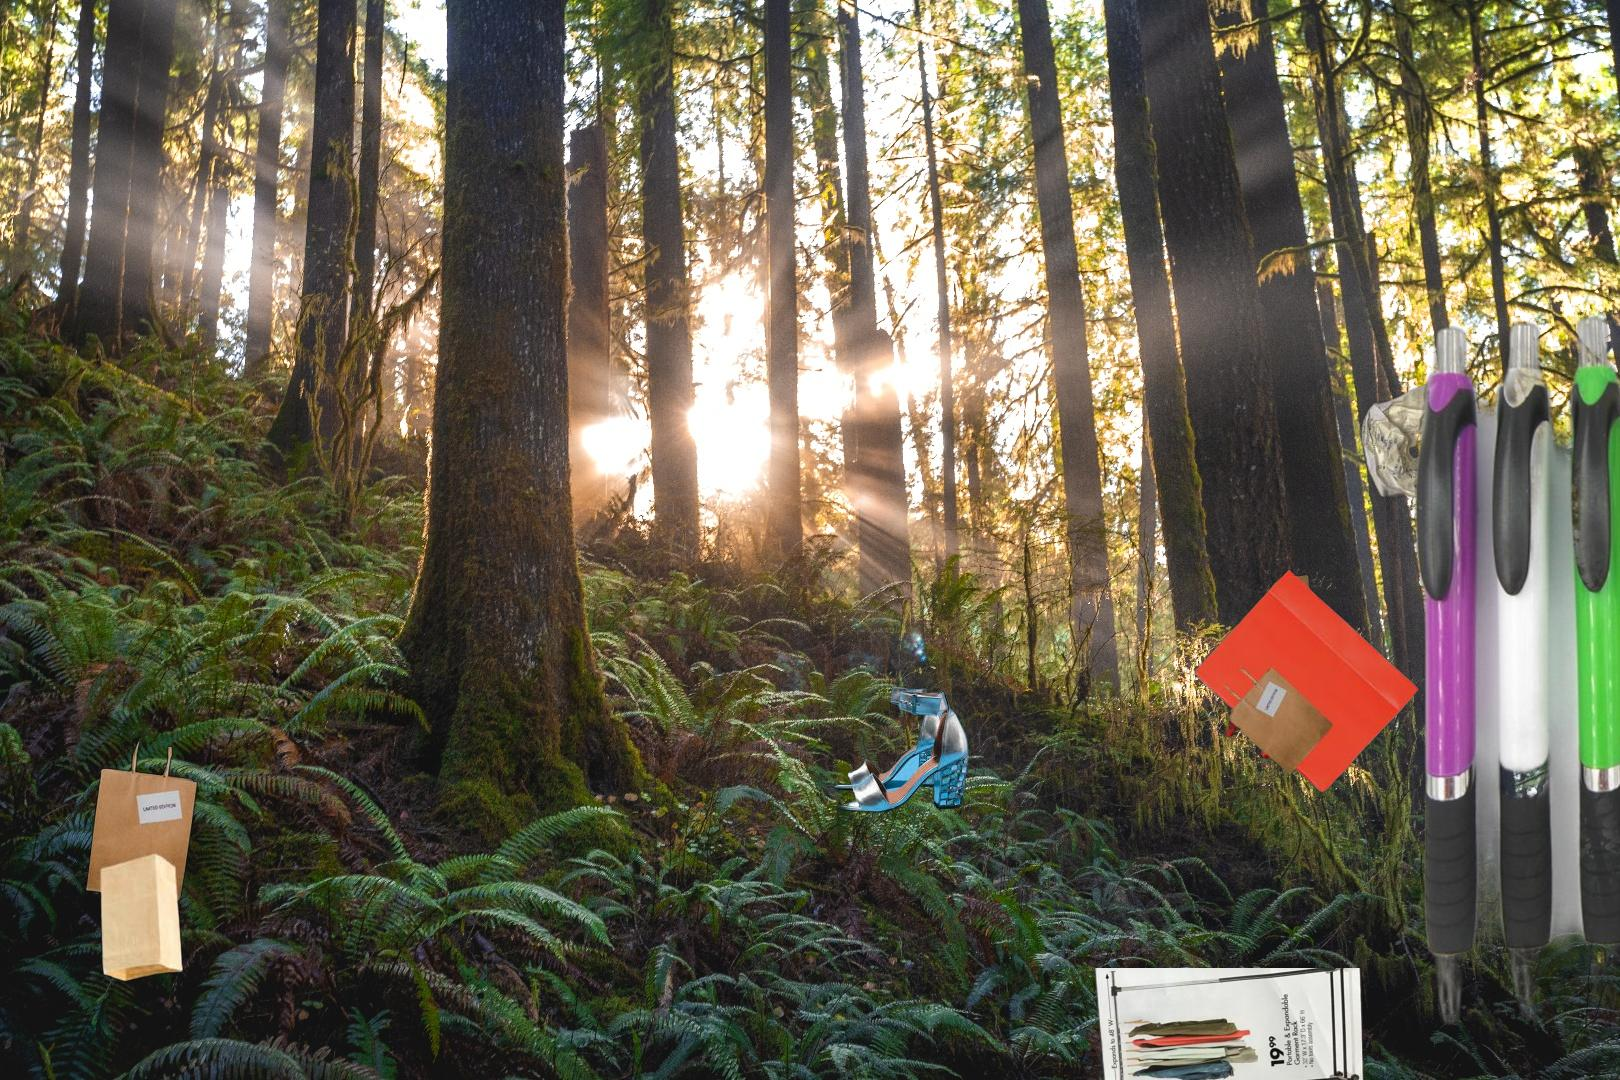paper: (871, 968, 1384, 1080), (123, 1012, 635, 1080), (1357, 375, 1458, 501)
paper-bag: (1193, 568, 1422, 794), (84, 738, 201, 985)
penholder: (1408, 310, 1620, 1037)
shoes: (833, 679, 973, 815)
